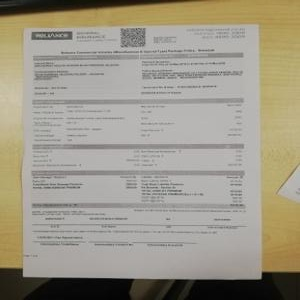image: (29, 30, 73, 41)
table: (30, 94, 249, 146), (31, 52, 245, 96), (30, 171, 242, 209), (33, 145, 246, 169)
text: (184, 25, 249, 46)
